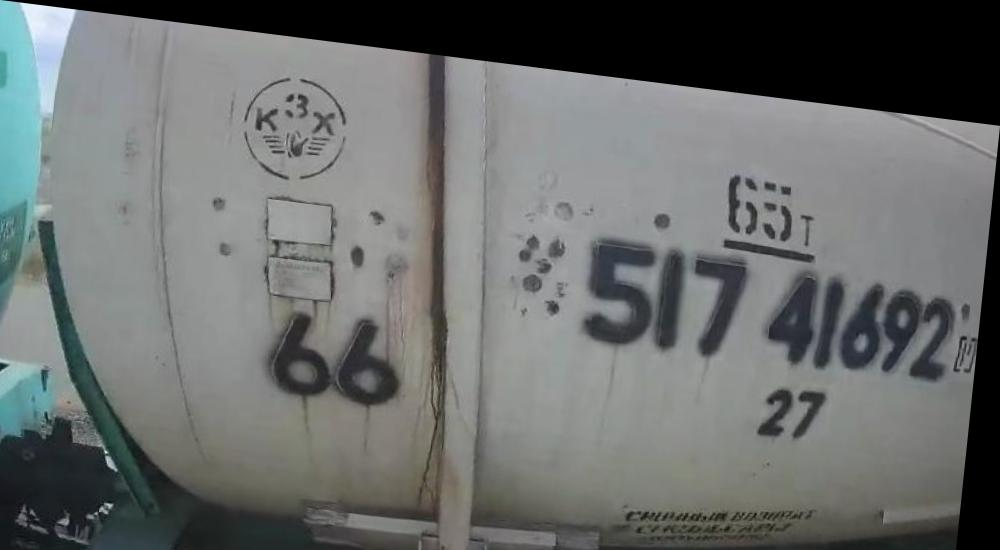Wagon-number: (576, 213, 966, 375)
